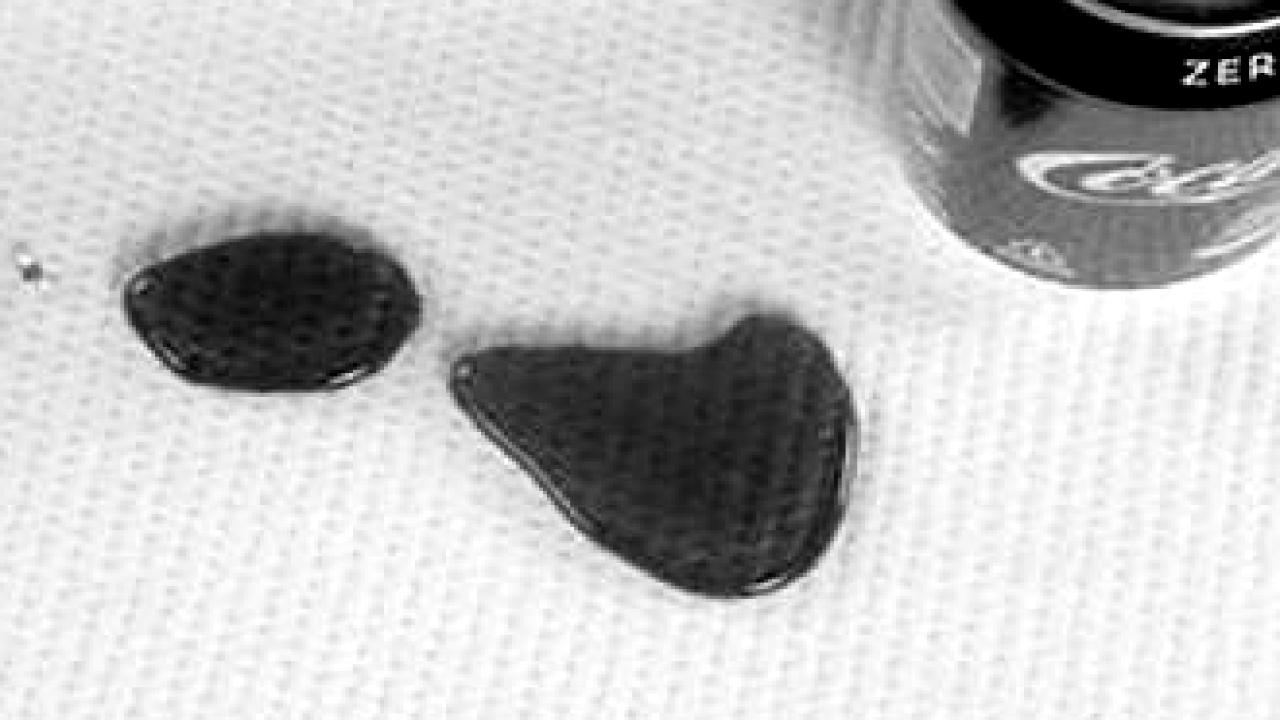drinks Stains: (444, 306, 866, 602), (116, 222, 430, 408)
